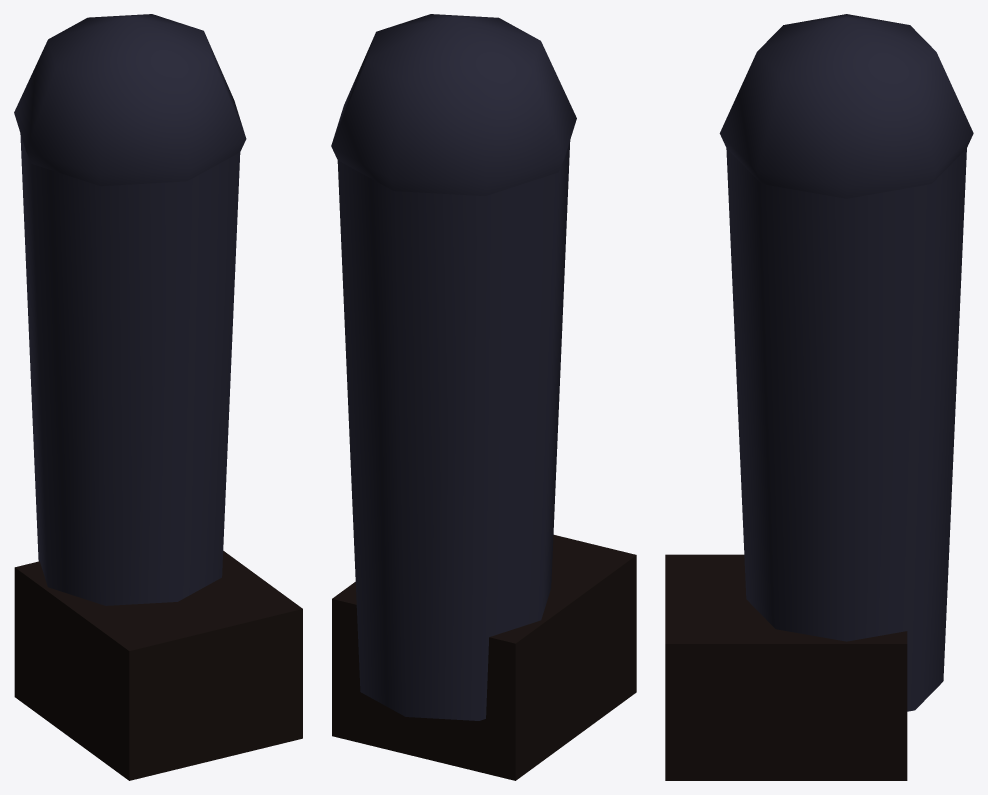
File: PCaminante_Pantorrilla.obj
3 views of the same model, side by side, from view 1: azimuth 30°, elevation 25°; view 2: azimuth 150°, elevation 25°; view 3: azimuth 270°, elevation 25° (orthographic). The views are drawn at different scales.
Visible parts, largest first — view 1: Pantorrilla; view 2: Pantorrilla; view 3: Pantorrilla.
Boxes of the visible parts, x1,y1,x2,y2 form: Pantorrilla: [14, 14, 302, 780]; Pantorrilla: [331, 14, 636, 780]; Pantorrilla: [665, 14, 973, 780].
Size of the model in its own units: 0.084 by 0.262 by 0.102.
Materials: 1 (1 with a texture image).
